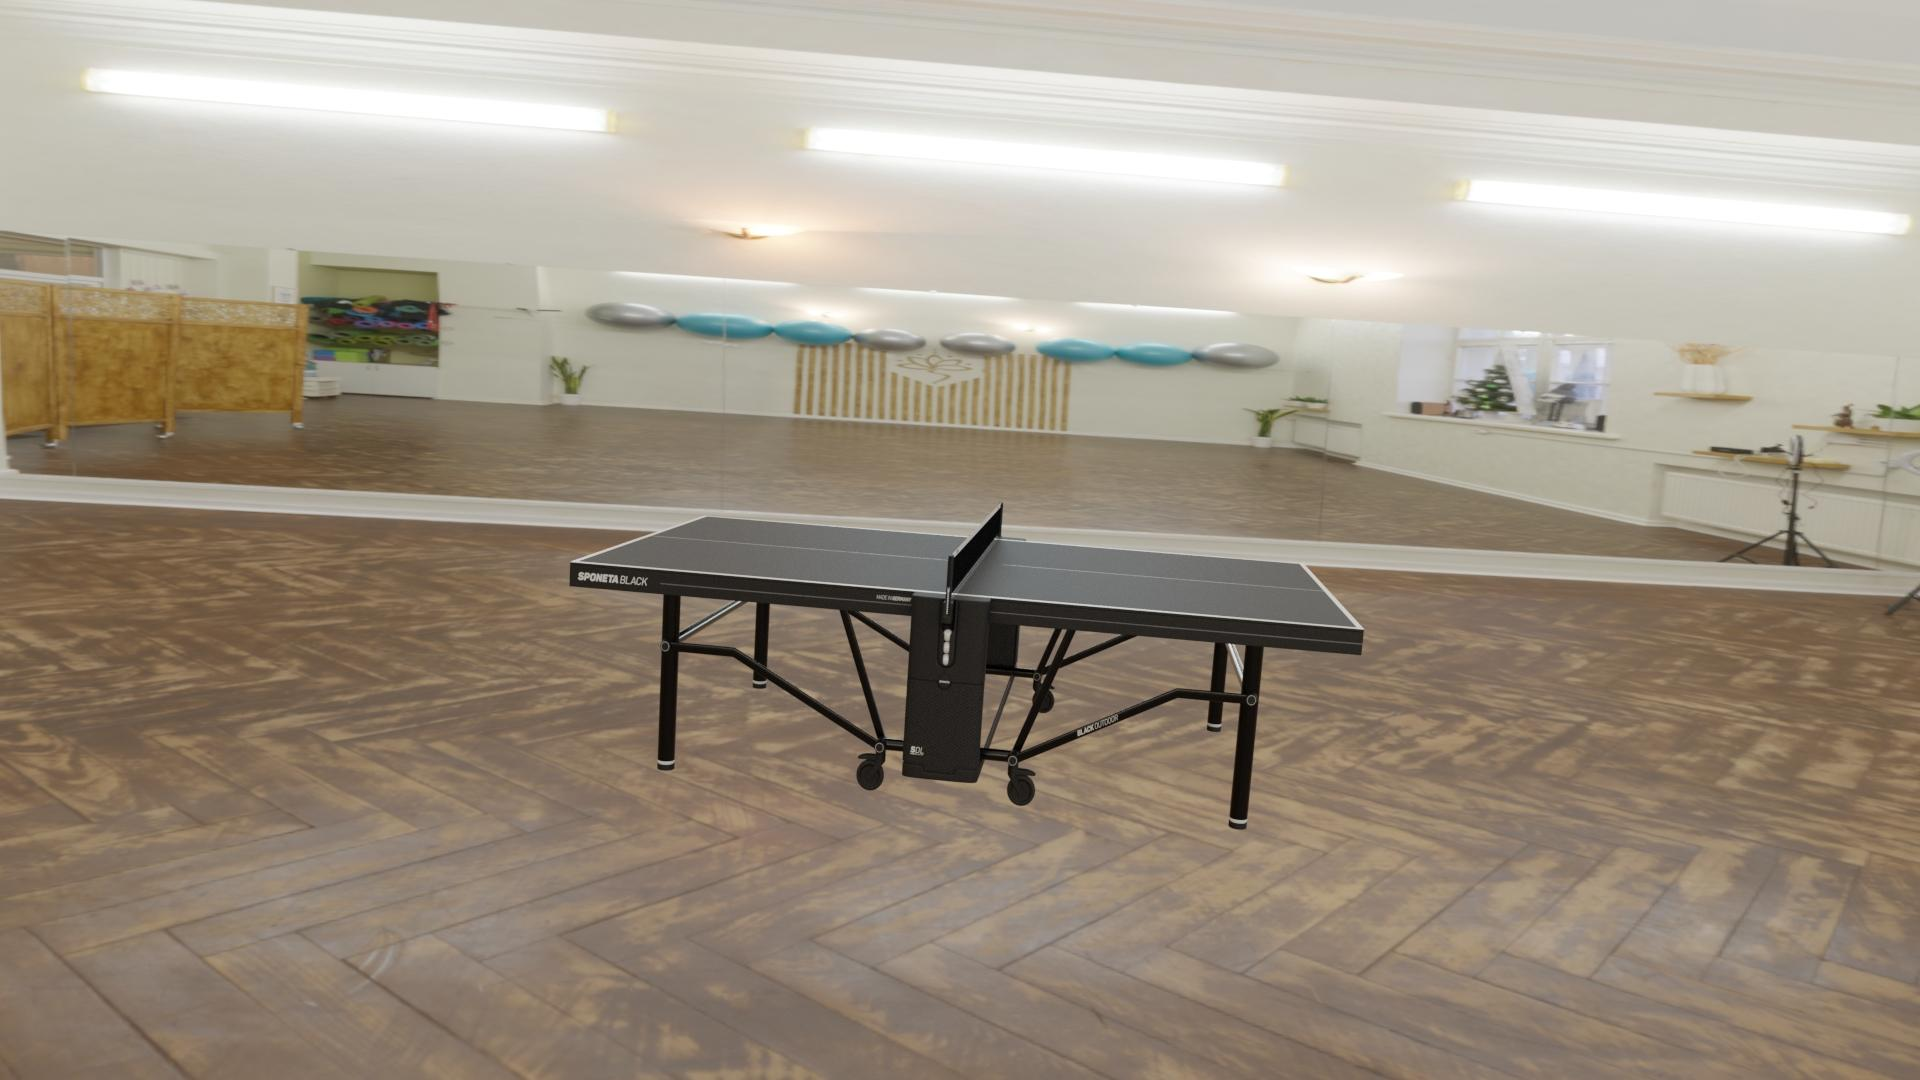table: (578, 517, 1357, 628)
